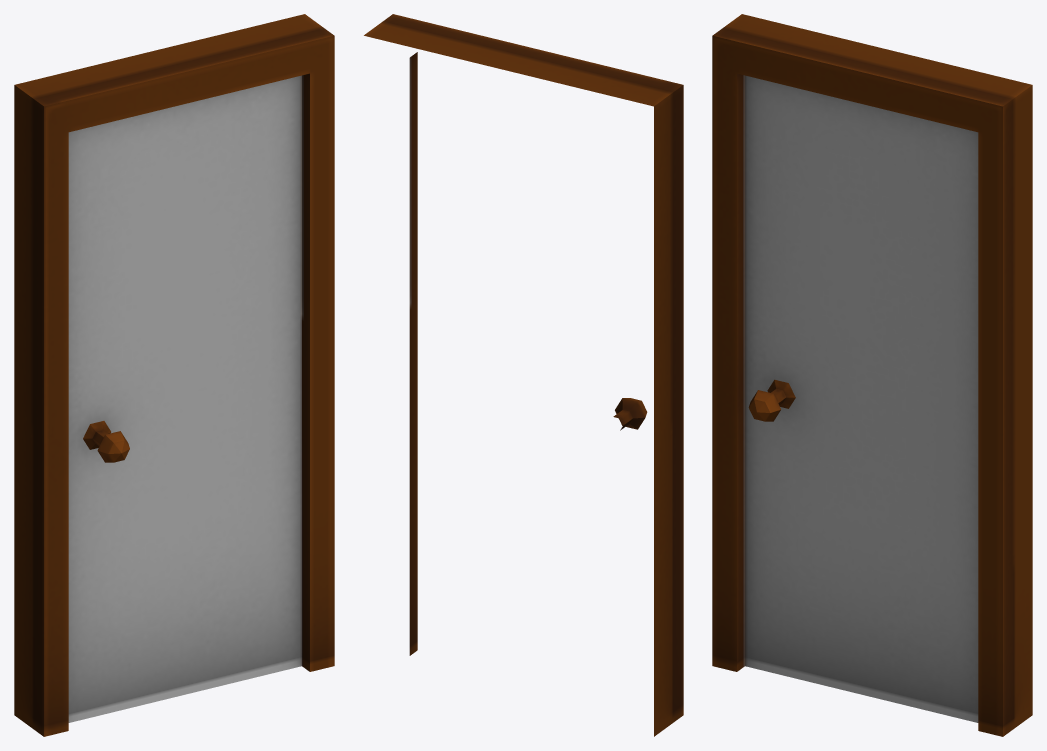
The model's file is bar_mesh.001.004_lev1.glb.
3 renders of one model, left to right at view 1: azimuth 30°, elevation 25°; view 2: azimuth 150°, elevation 25°; view 3: azimuth 330°, elevation 25°, orthographic.
Parts seen in each view (by area): view 1: bar_mesh.001.004_lev1; view 2: bar_mesh.001.004_lev1; view 3: bar_mesh.001.004_lev1.
Boxes of the visible parts, x1,y1,x2,y2 form: bar_mesh.001.004_lev1: (14,14,334,736); bar_mesh.001.004_lev1: (364,14,683,736); bar_mesh.001.004_lev1: (712,14,1032,736).
Size of the model in its own units: 3.04 by 6.31 by 0.8383.
1 material, 1 textured.
